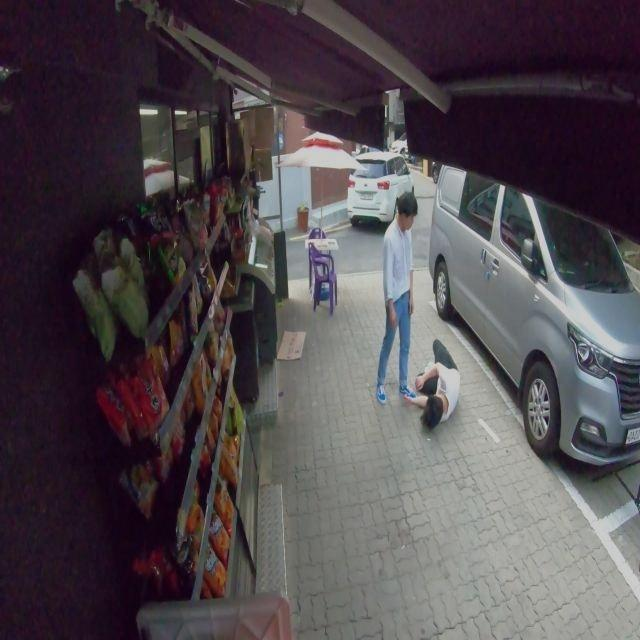fight: (374, 190, 463, 433)
